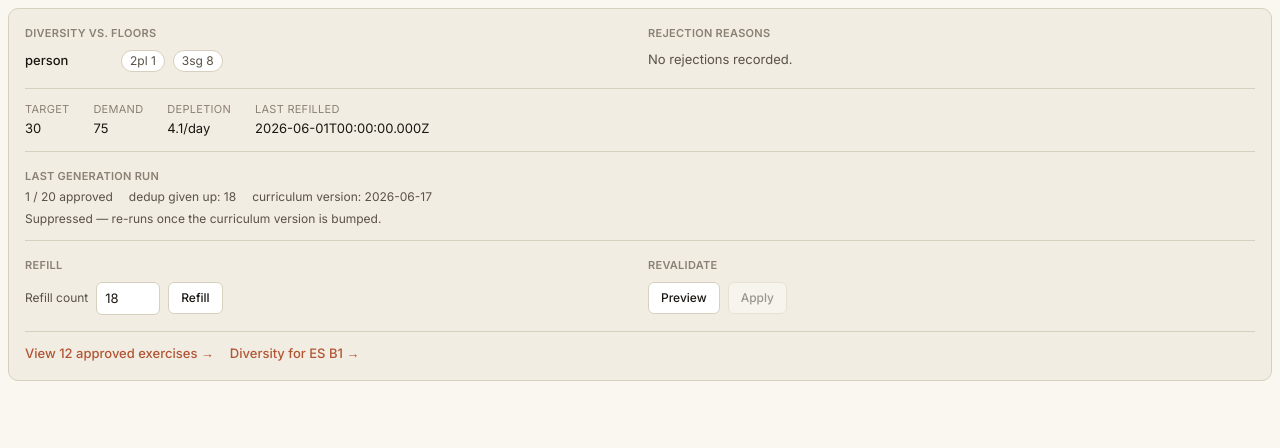
Test: PoolCellDetail — revalidate › applies (apply:true) after confirm and shows the applied summary
This screenshot has width=1280, height=448.
What coordinates should you click on to do the following:
click the button "Preview"
I would click on:
 (684, 298)
Its box is [648, 282, 720, 314].
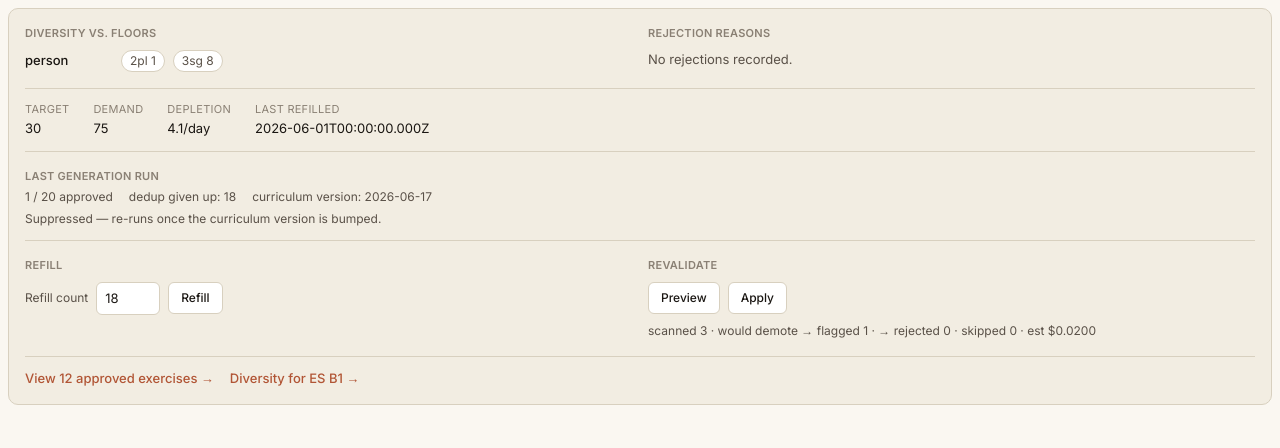
Check: the text "would demote" is shown, box [718, 322, 798, 338]
What coordinates should you click on to do the following:
click the button "Apply"
I would click on:
 (757, 298)
Its box is [728, 282, 787, 314].
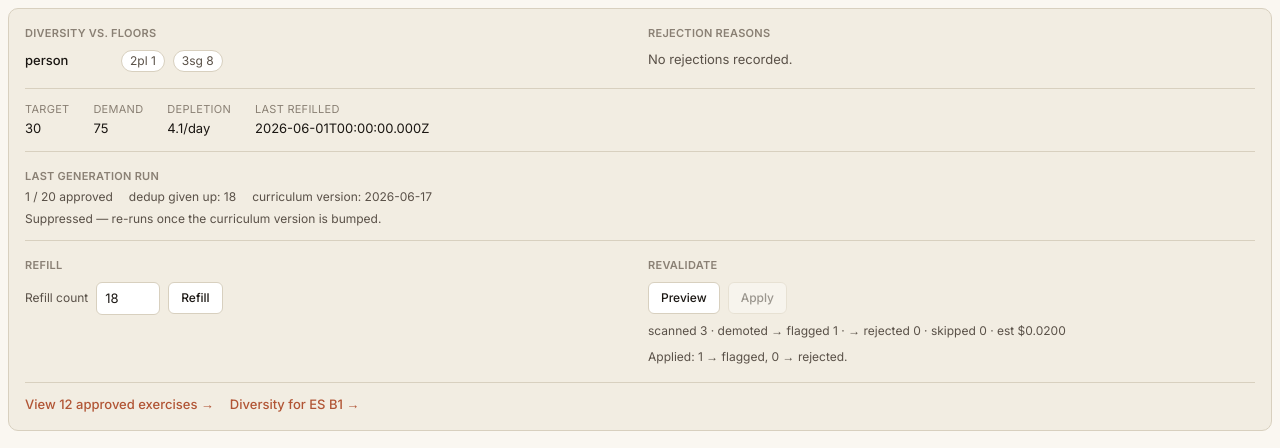
Check: the text "Applied: 1 → flagged, 0 → rejected." is shown, box [648, 348, 848, 364]
